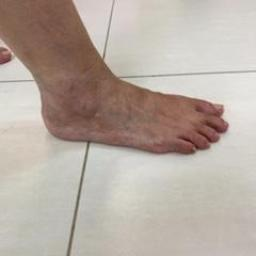Lateral View -Right Foot-: (20, 15, 239, 182)
